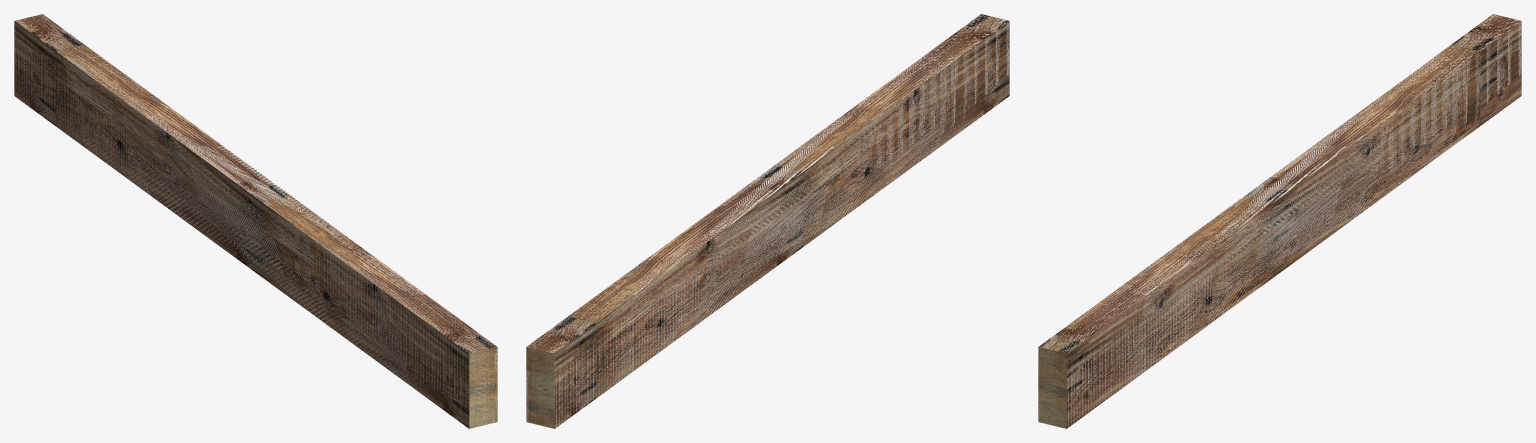
The model's file is wooden_plank.dae.
The picture shows the model from 3 angles, left to right: view 1: azimuth 30°, elevation 25°; view 2: azimuth 150°, elevation 25°; view 3: azimuth 330°, elevation 25°; orthographic projection.
Parts seen in each view (by area): view 1: SketchUp (×2); view 2: SketchUp (×2); view 3: SketchUp (×2).
Boxes of the visible parts, left/top/right/bottom form: SketchUp (×2): left=14, top=14, right=497, bottom=428; SketchUp (×2): left=526, top=14, right=1009, bottom=428; SketchUp (×2): left=1038, top=14, right=1521, bottom=428.
Bounding box in the file's own units: 0.0396 × 1.1 × 0.1003.
Materials: 3 (2 with a texture image).
